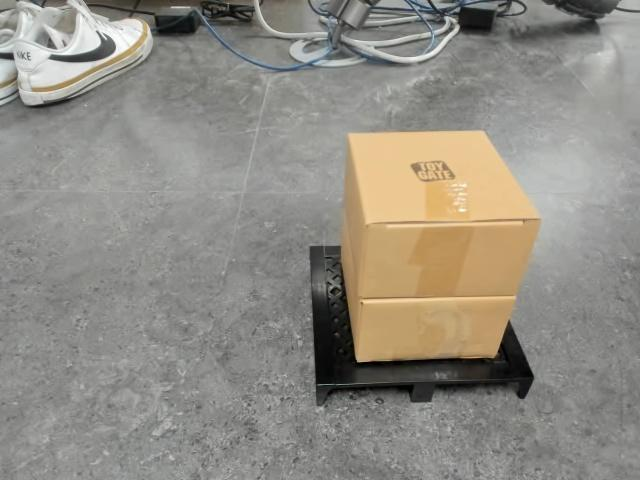box: (305, 131, 543, 406)
